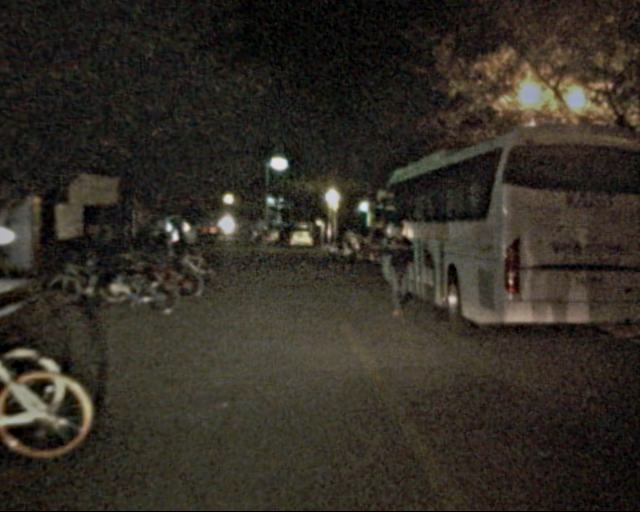person: (381, 223, 422, 324), (177, 216, 204, 278)
